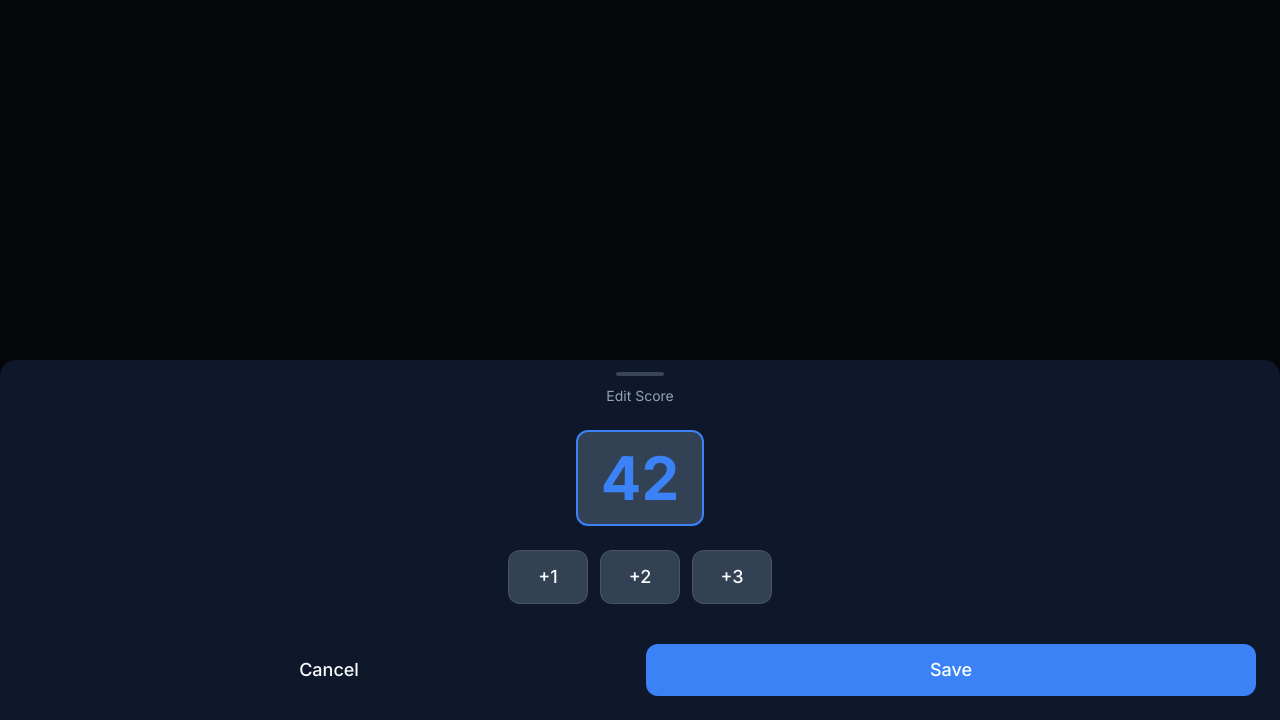
Test: ScoreEditSheet › error handling › should disable save button while saving
(page scrolled)
Click the button "Save" at (951, 670), box [646,644,1256,696]
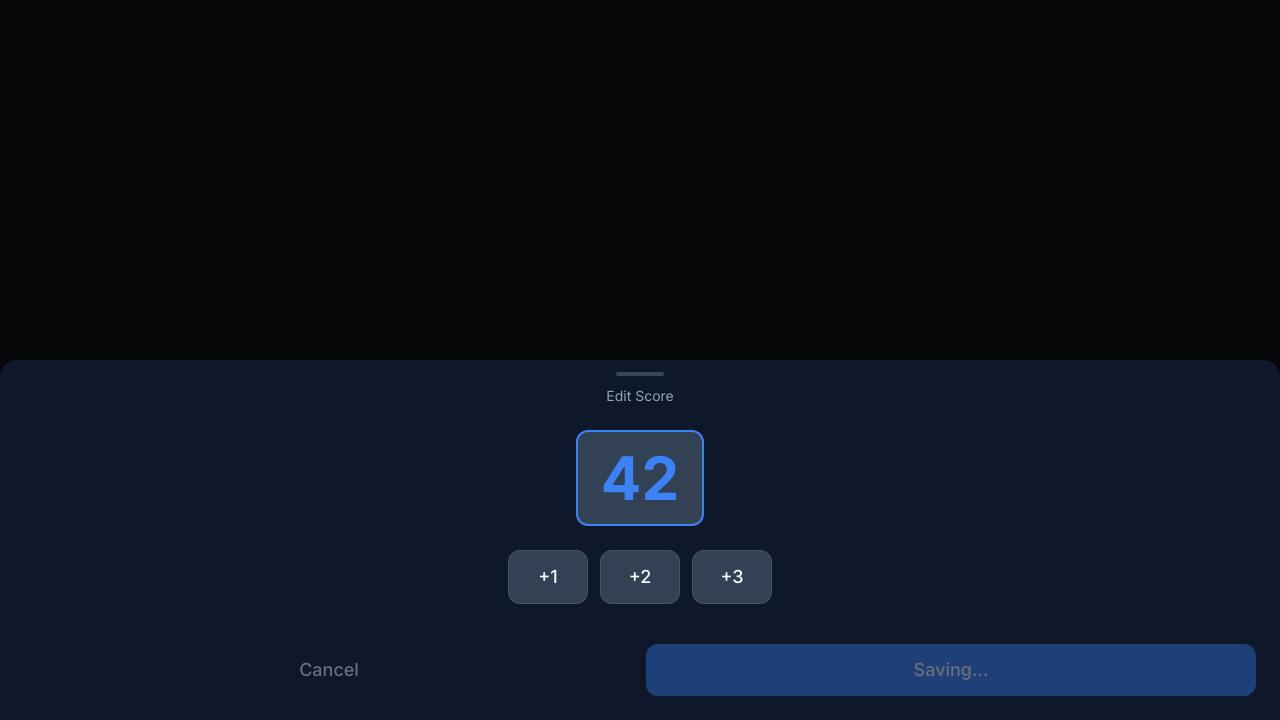
Check: the button "Save" is disabled, box [646,644,1256,696]
